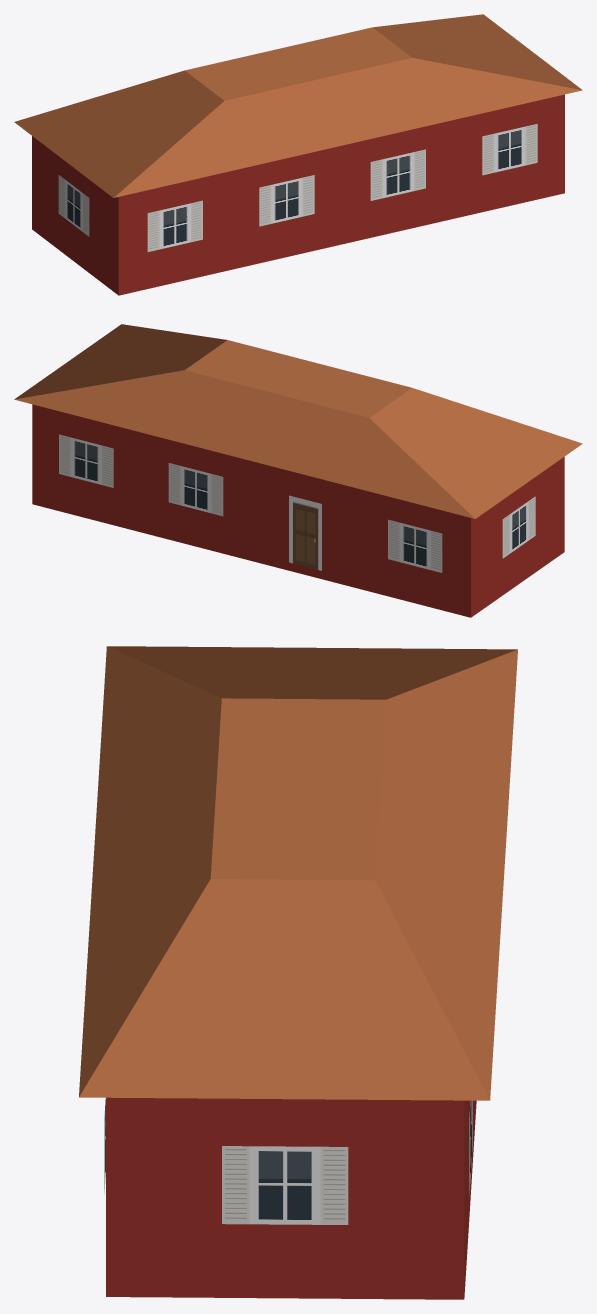
The model's file is msb_palmbeach_m22_m16.glb.
3 views of the same model, one above another, from view 1: azimuth 30°, elevation 25°; view 2: azimuth 150°, elevation 25°; view 3: azimuth 270°, elevation 25° (orthographic). The views are drawn at different scales.
Parts seen in each view (by area): view 1: msb_palmbeach_m22_m16_lod0; view 2: msb_palmbeach_m22_m16_lod0; view 3: msb_palmbeach_m22_m16_lod0.
Part boxes in pixels (left/top/right/bottom): msb_palmbeach_m22_m16_lod0: left=14, top=14, right=582, bottom=295; msb_palmbeach_m22_m16_lod0: left=14, top=324, right=582, bottom=617; msb_palmbeach_m22_m16_lod0: left=79, top=646, right=517, bottom=1299.
Size of what is drawn, in the model's own units: 16.21 by 4.9 by 6.62.
2 materials, 1 textured.
